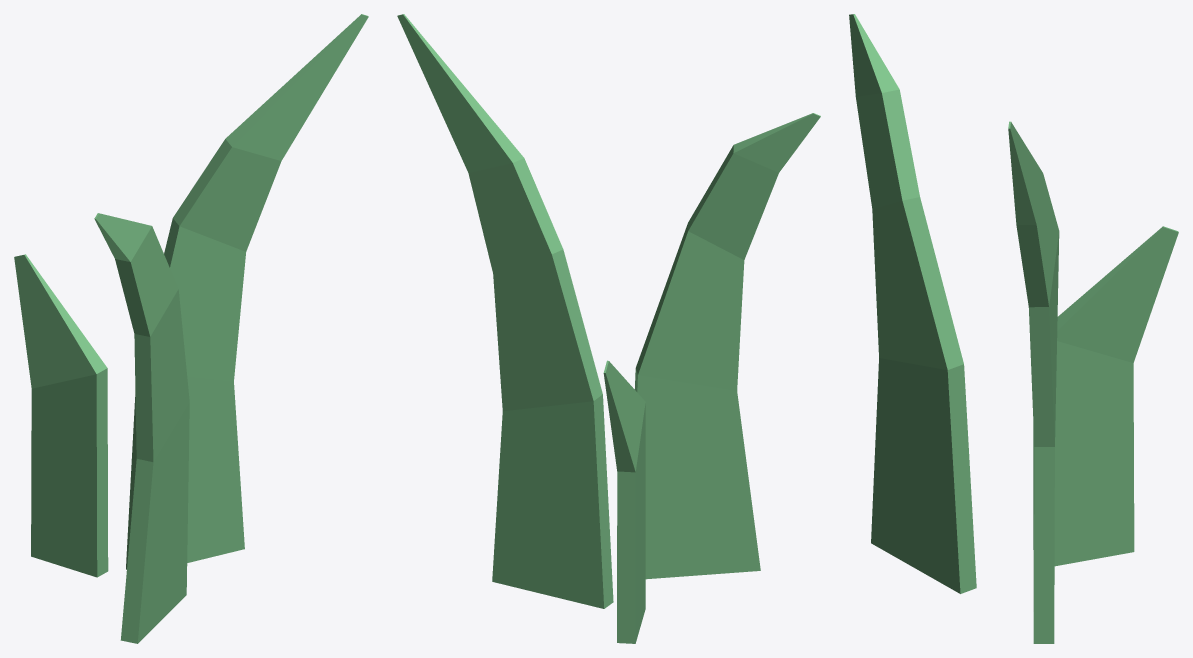
Rendered from grass.gltf.
The picture shows the model from 3 angles, left to right: view 1: azimuth 30°, elevation 25°; view 2: azimuth 150°, elevation 25°; view 3: azimuth 270°, elevation 25°; orthographic projection. The views are drawn at different scales.
Visible parts, largest first — view 1: Cube; view 2: Cube; view 3: Cube.
Part boxes in pixels (x1,y1,x2,y2): Cube: (14, 14, 368, 643); Cube: (397, 14, 820, 643); Cube: (849, 14, 1178, 643).
Size of the model in its own units: 3.89 by 5.57 by 2.86.
Materials: 1 (1 with a texture image).
